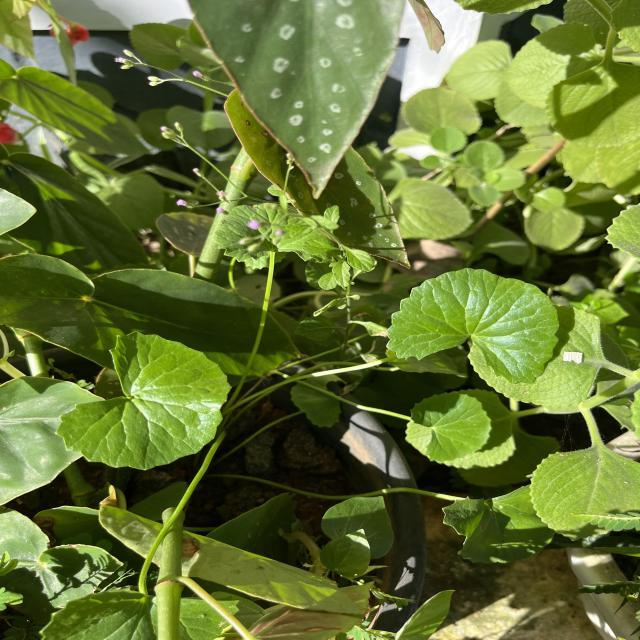Centella asiatica: (52, 327, 235, 474), (383, 264, 562, 386)
